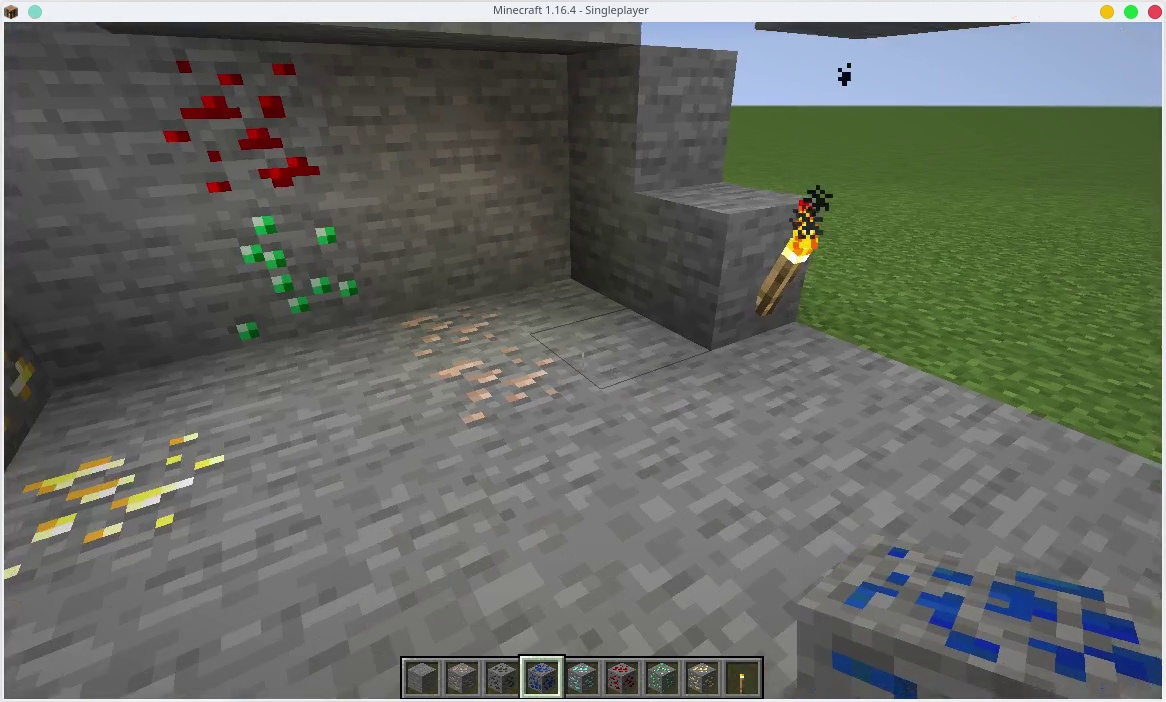gold: (24, 431, 265, 570), (684, 664, 717, 696)
